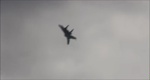maybay_muctieu: (59, 23, 76, 47)
